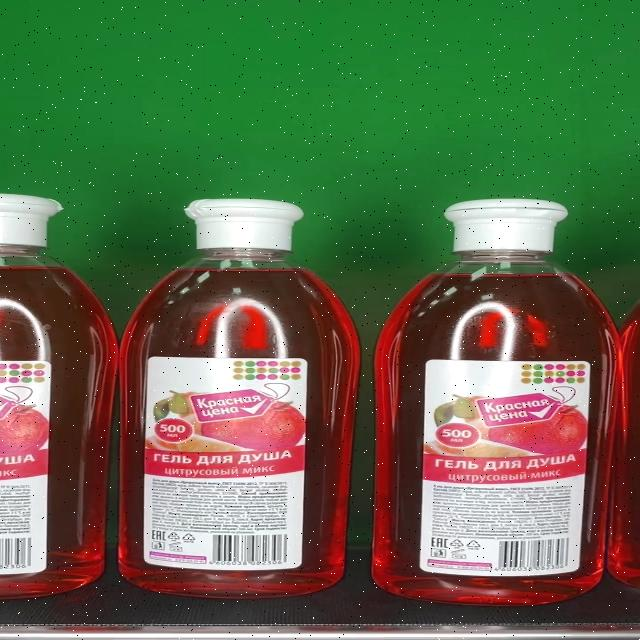Bottle: (372, 200, 620, 606), (119, 198, 359, 598)
Cap: (444, 200, 570, 252), (184, 198, 304, 250)
